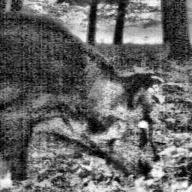boar: (0, 4, 173, 192)
